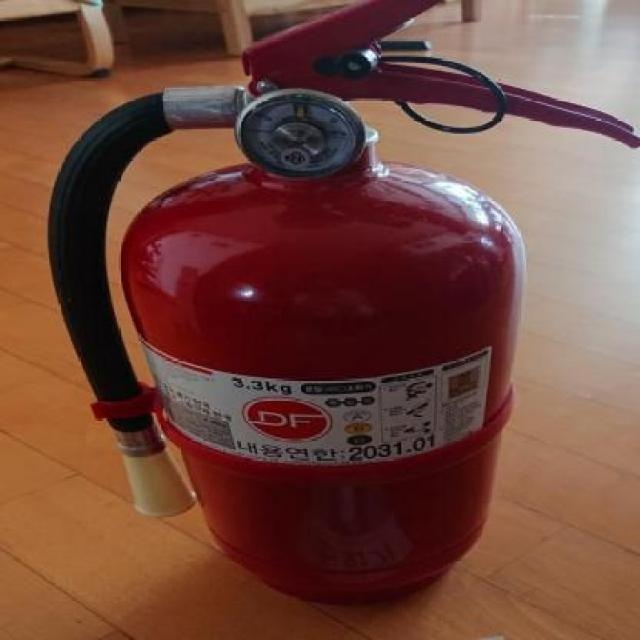fire extinguisher: (49, 0, 640, 605)
